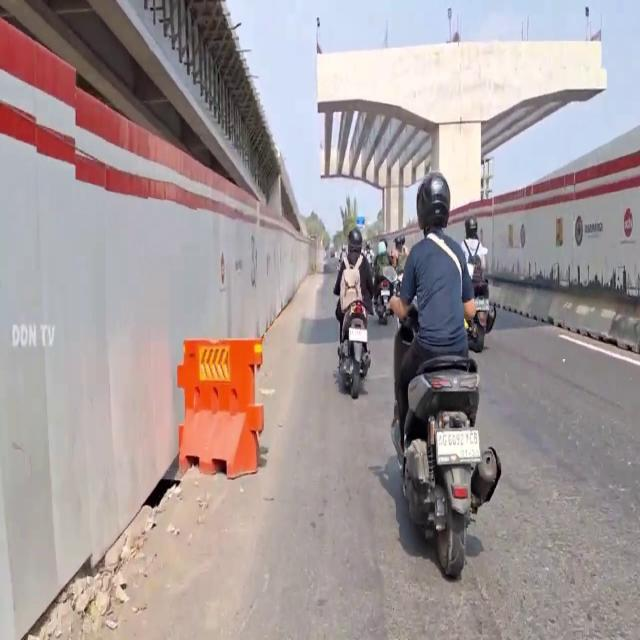WithHelmet: (387, 171, 477, 473), (333, 227, 375, 357), (373, 240, 398, 315), (459, 214, 487, 279), (398, 235, 409, 268)
